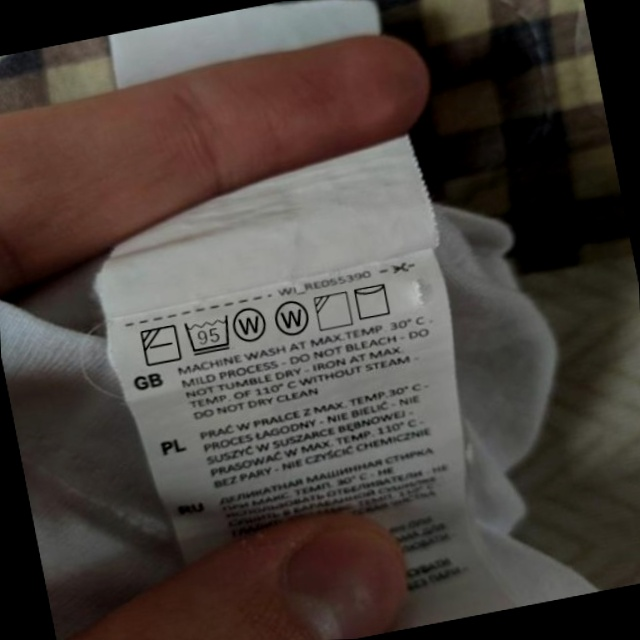95C: (181, 311, 236, 358)
dry_flat_in_shade: (137, 320, 184, 370)
line_dry: (350, 278, 396, 323)
shade_dry: (311, 288, 356, 334)
wet_clean: (271, 296, 314, 342), (230, 300, 272, 346)
